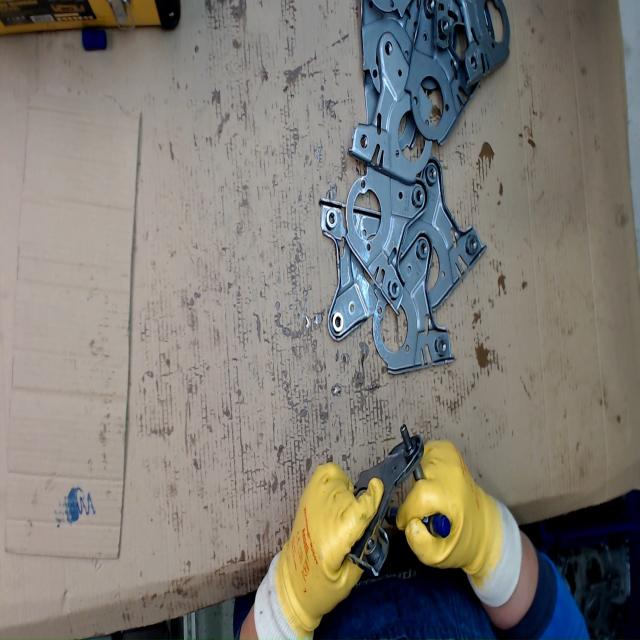hands: (282, 462, 386, 638), (395, 439, 501, 575)
